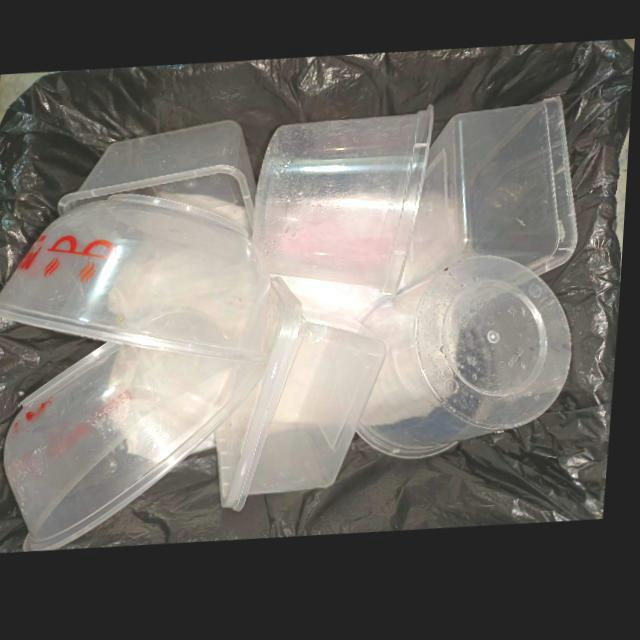plastic_container: (6, 344, 271, 552), (0, 196, 281, 364), (362, 262, 576, 467), (220, 279, 391, 517), (402, 105, 581, 298), (255, 111, 435, 302), (60, 124, 258, 241)
